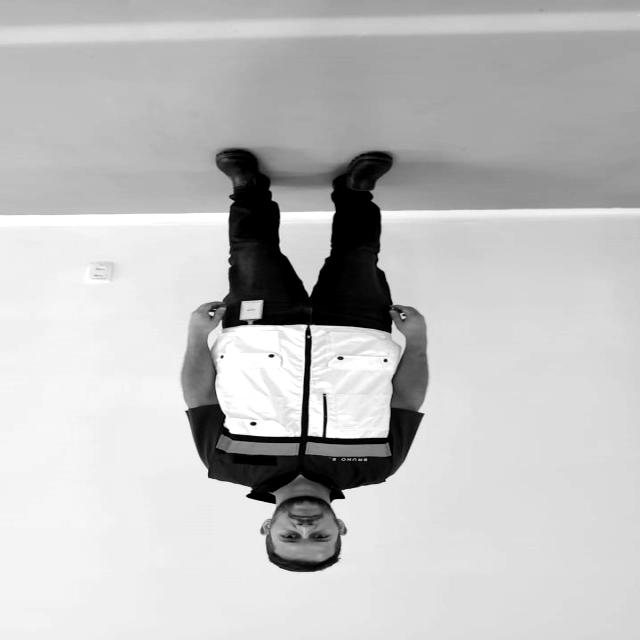Boots: (325, 148, 402, 199), (213, 147, 274, 201)
Vest: (220, 326, 400, 487)
